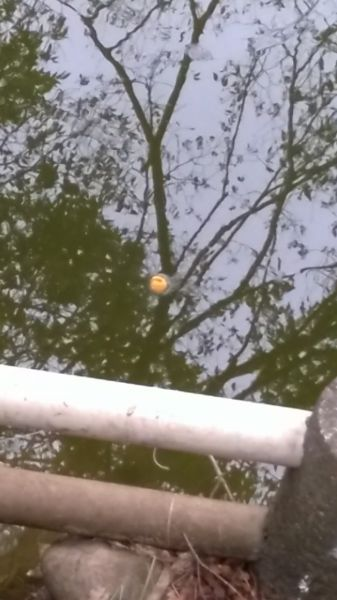eggs: (147, 269, 170, 297)
